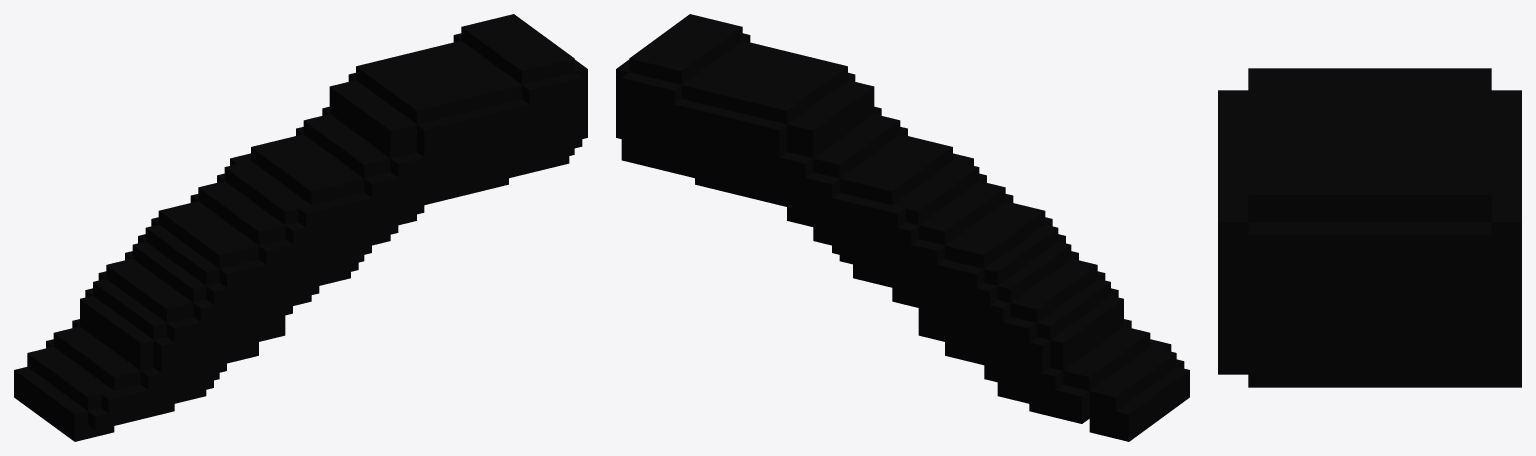
File: right_arm.obj
3 renders of one model, left to right at view 1: azimuth 30°, elevation 25°; view 2: azimuth 150°, elevation 25°; view 3: azimuth 270°, elevation 25°, orthographic. The views are drawn at different scales.
Bounding box in the file's own units: 3.9 × 1.9 × 1.
Materials: 1 (1 with a texture image).
